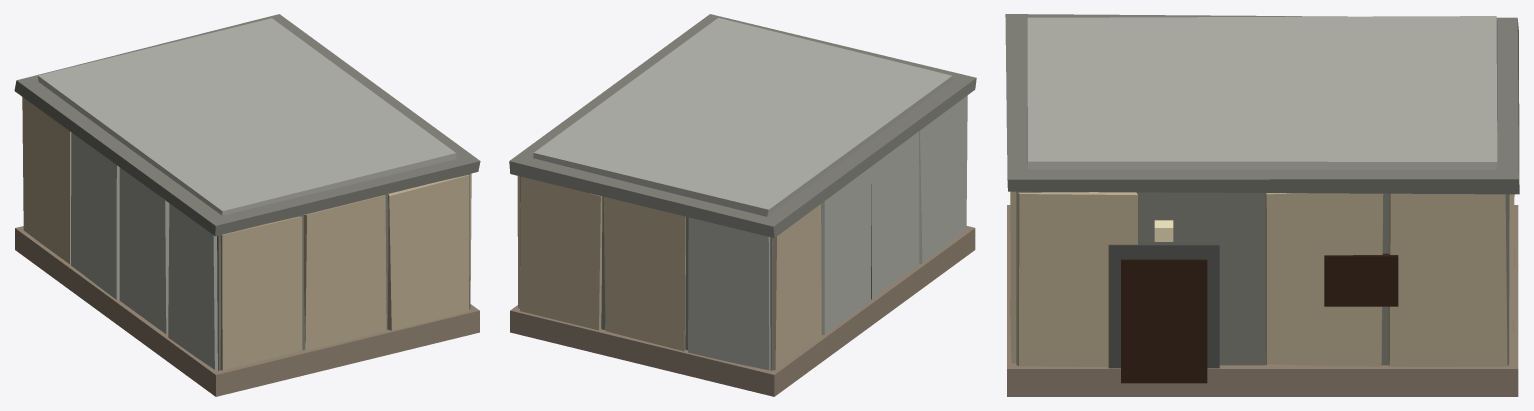
Rendered from scrap_shelter_flat.glb.
The picture shows the model from 3 angles, left to right: view 1: azimuth 30°, elevation 25°; view 2: azimuth 150°, elevation 25°; view 3: azimuth 270°, elevation 25°; orthographic projection. The views are drawn at different scales.
Parts seen in each view (by area): view 1: scrap_shelter_flat; view 2: scrap_shelter_flat; view 3: scrap_shelter_flat.
Part boxes in pixels (bbox=[...]): scrap_shelter_flat: bbox=[14, 14, 480, 396]; scrap_shelter_flat: bbox=[509, 14, 976, 396]; scrap_shelter_flat: bbox=[1005, 14, 1519, 396].
Size of the model in its own units: 6.53 by 4.04 by 8.34.
